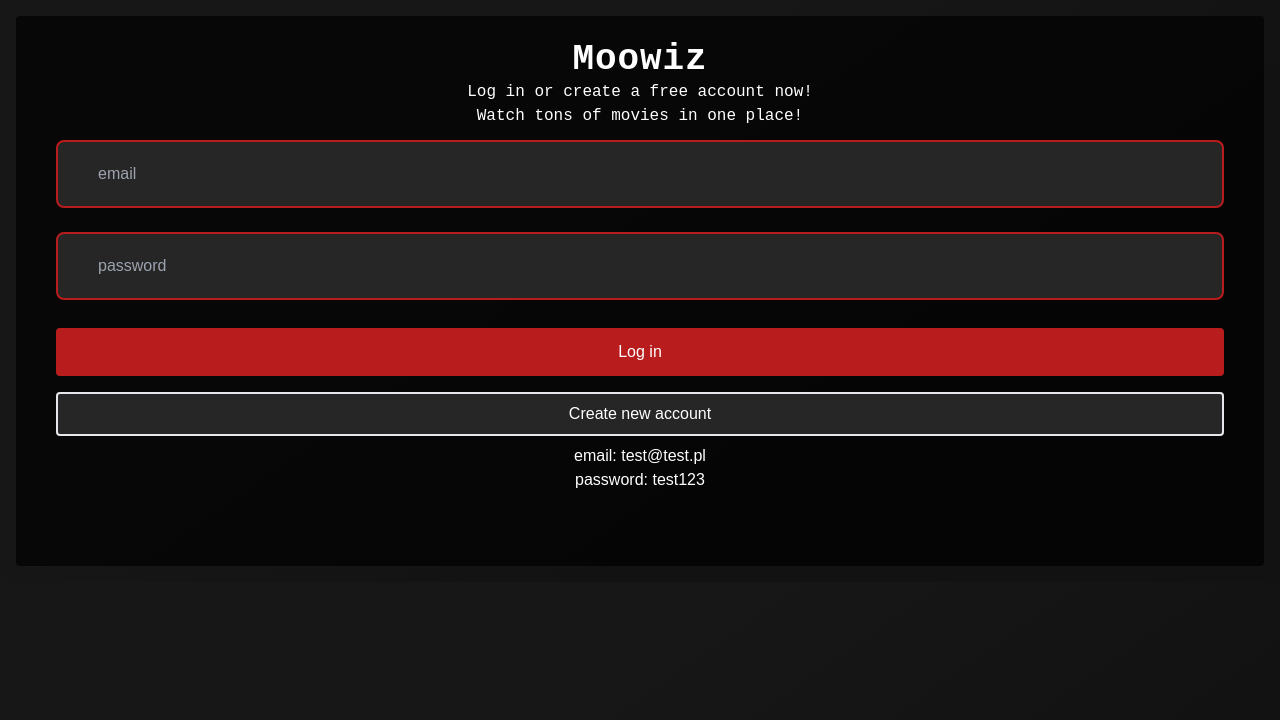
Test case: AuthForm › shows the signup modal when the button is clicked
Click the button "Create new account" at (640, 414), box [56, 392, 1224, 436]
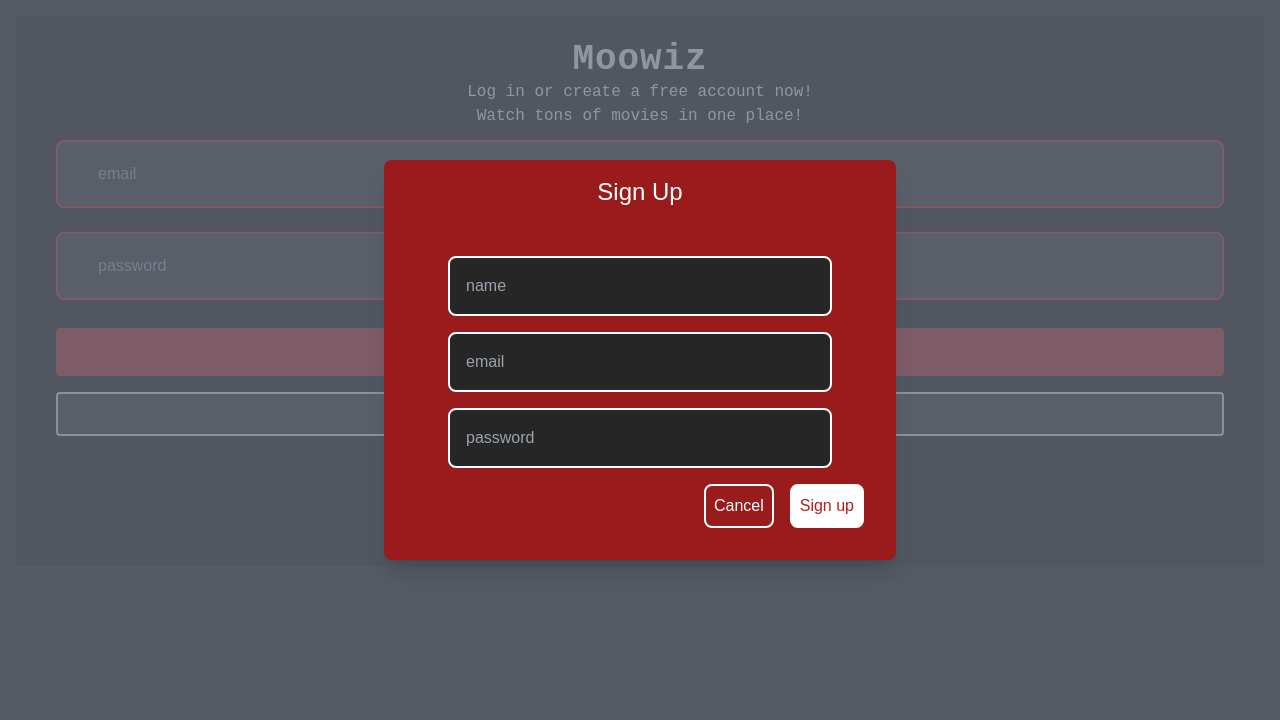
Check: the heading "Sign Up" is shown, box [597, 178, 683, 205]
